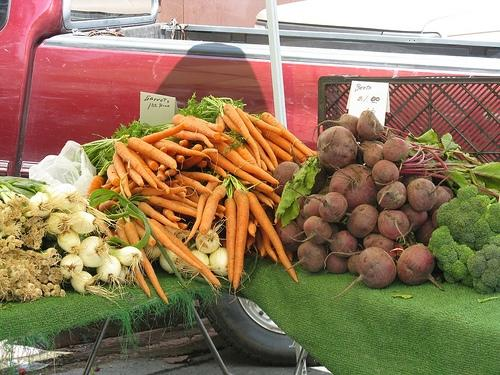broccoli: (426, 225, 474, 286), (484, 202, 500, 233), (481, 269, 498, 288)
carrot: (242, 185, 299, 283), (150, 218, 222, 288), (209, 94, 261, 168), (137, 217, 203, 270), (114, 128, 182, 177), (222, 114, 276, 172), (232, 104, 278, 170), (210, 141, 279, 185), (204, 153, 273, 194), (116, 219, 151, 297), (114, 141, 164, 191), (261, 112, 314, 156), (224, 183, 244, 297), (184, 181, 219, 244), (127, 148, 170, 194), (232, 189, 250, 298), (130, 201, 190, 232), (200, 176, 231, 236), (258, 126, 309, 162), (139, 248, 168, 304), (134, 195, 196, 218), (172, 114, 220, 140), (150, 139, 211, 159), (140, 121, 188, 144), (140, 180, 198, 198), (175, 174, 222, 196), (223, 138, 259, 166), (112, 149, 132, 199), (185, 188, 226, 212), (244, 112, 283, 135), (172, 130, 214, 148), (130, 218, 156, 246), (264, 138, 294, 162), (259, 226, 277, 262), (122, 158, 144, 186), (186, 115, 222, 132), (248, 187, 273, 209), (158, 194, 197, 208), (180, 171, 226, 182), (86, 174, 104, 200), (95, 216, 113, 238), (178, 156, 202, 172), (166, 178, 186, 197), (162, 208, 186, 223), (169, 200, 197, 212), (106, 164, 121, 186), (110, 175, 132, 190), (143, 154, 160, 172), (254, 205, 268, 226), (208, 162, 226, 178), (119, 182, 138, 196), (98, 200, 120, 212), (260, 191, 280, 204), (300, 142, 318, 156), (246, 229, 256, 254), (254, 227, 262, 252), (158, 163, 168, 181), (206, 135, 230, 142), (216, 116, 226, 132), (176, 153, 185, 170), (130, 187, 146, 196), (248, 219, 256, 237), (164, 179, 184, 186), (238, 178, 254, 186), (165, 167, 178, 176), (260, 238, 266, 257), (188, 144, 202, 152), (179, 139, 191, 148), (100, 183, 114, 190), (196, 160, 208, 168), (286, 247, 292, 262), (220, 132, 232, 139), (266, 196, 274, 206), (178, 222, 188, 230), (160, 147, 168, 153), (282, 245, 286, 254), (105, 178, 110, 184)
green onion: (0, 178, 79, 210), (70, 271, 128, 309), (96, 255, 132, 300), (196, 216, 232, 259), (109, 245, 144, 288), (46, 207, 87, 234), (78, 236, 112, 268), (69, 211, 104, 236), (57, 228, 82, 255), (160, 248, 185, 274), (184, 250, 210, 275), (60, 254, 83, 278), (209, 247, 228, 276), (118, 263, 133, 285), (7, 248, 27, 260), (2, 230, 24, 240), (78, 233, 91, 244), (30, 256, 44, 266), (8, 270, 20, 278), (36, 283, 46, 290), (22, 233, 28, 242), (11, 207, 15, 210)
